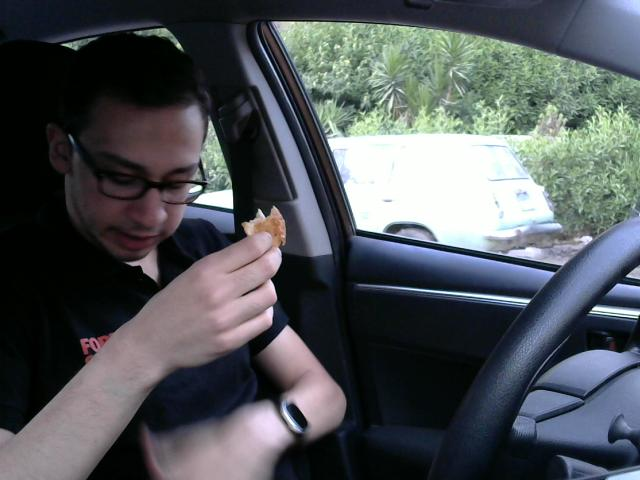Eating: (241, 199, 293, 254)
